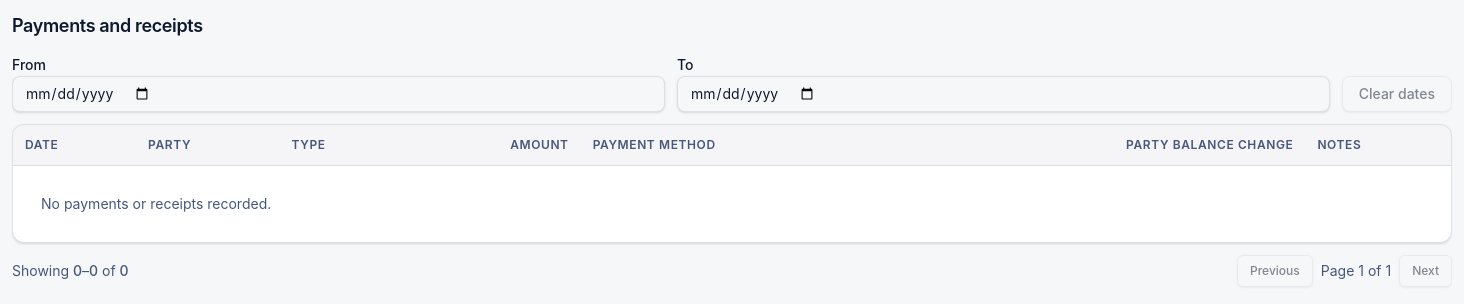
blocks reversed dates and supports an ending date alone
Type "2026-09-01" into the date field labelled "To" at (1003, 94), box left=677, top=76, right=1330, bottom=112
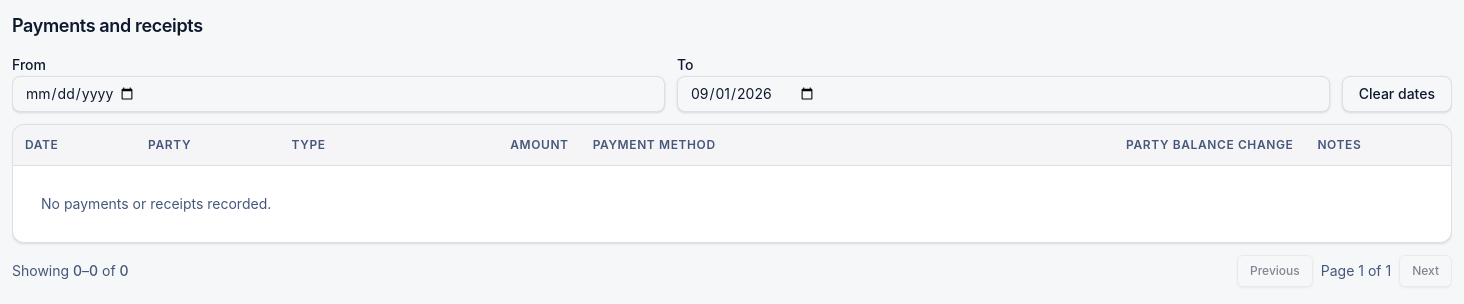
Type "2026-09-30" into the date field labelled "From" at (338, 94), box left=12, top=76, right=665, bottom=112
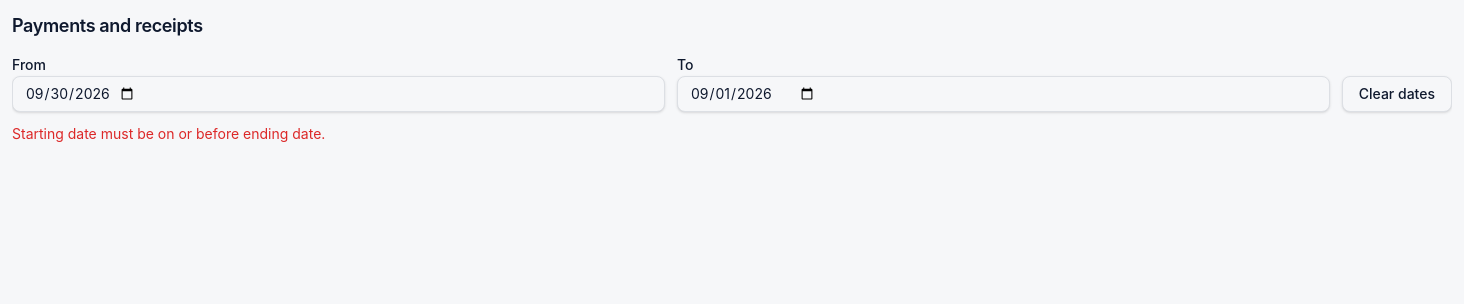
Now the message shows "Starting date", box left=12, top=125, right=325, bottom=142
